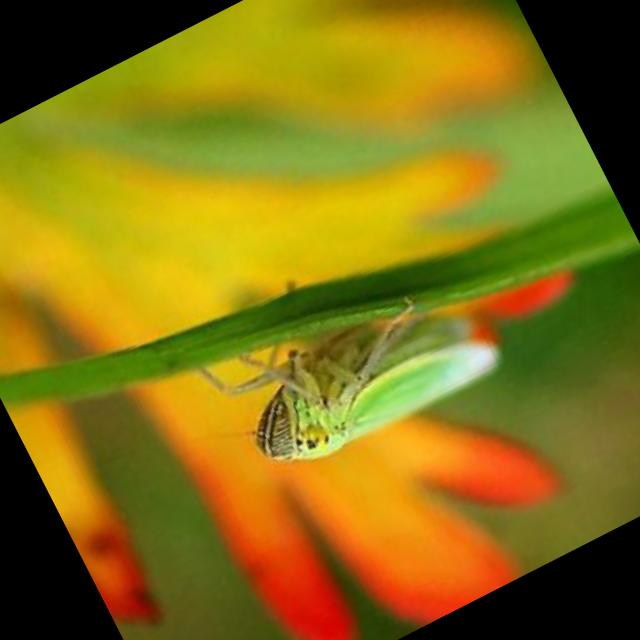green-leafhopper: (218, 260, 505, 486)
